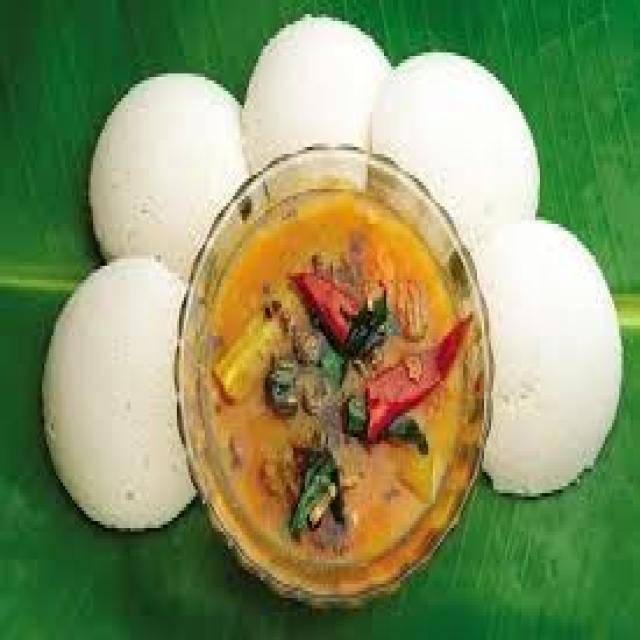IDLI: (37, 259, 195, 536), (477, 220, 628, 497), (368, 48, 546, 277), (87, 72, 249, 296), (243, 9, 392, 173)
